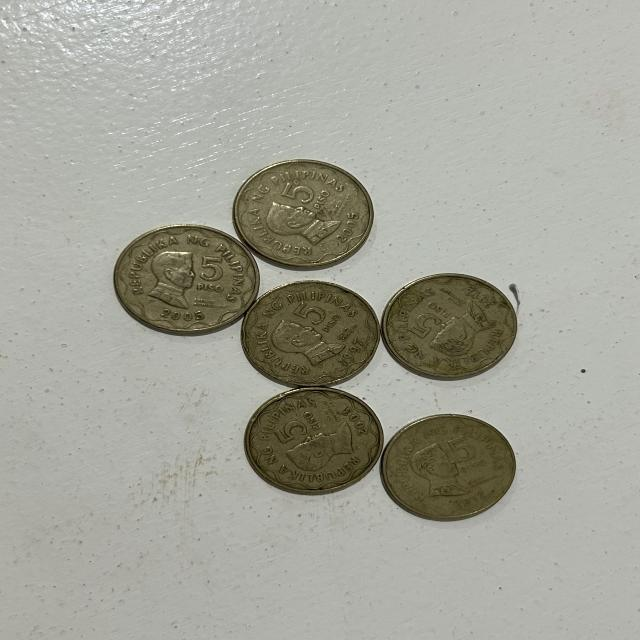5_Old_Front: (266, 408, 338, 446), (282, 301, 345, 343), (193, 248, 235, 306), (442, 435, 488, 480), (404, 300, 446, 349), (280, 175, 342, 208)
